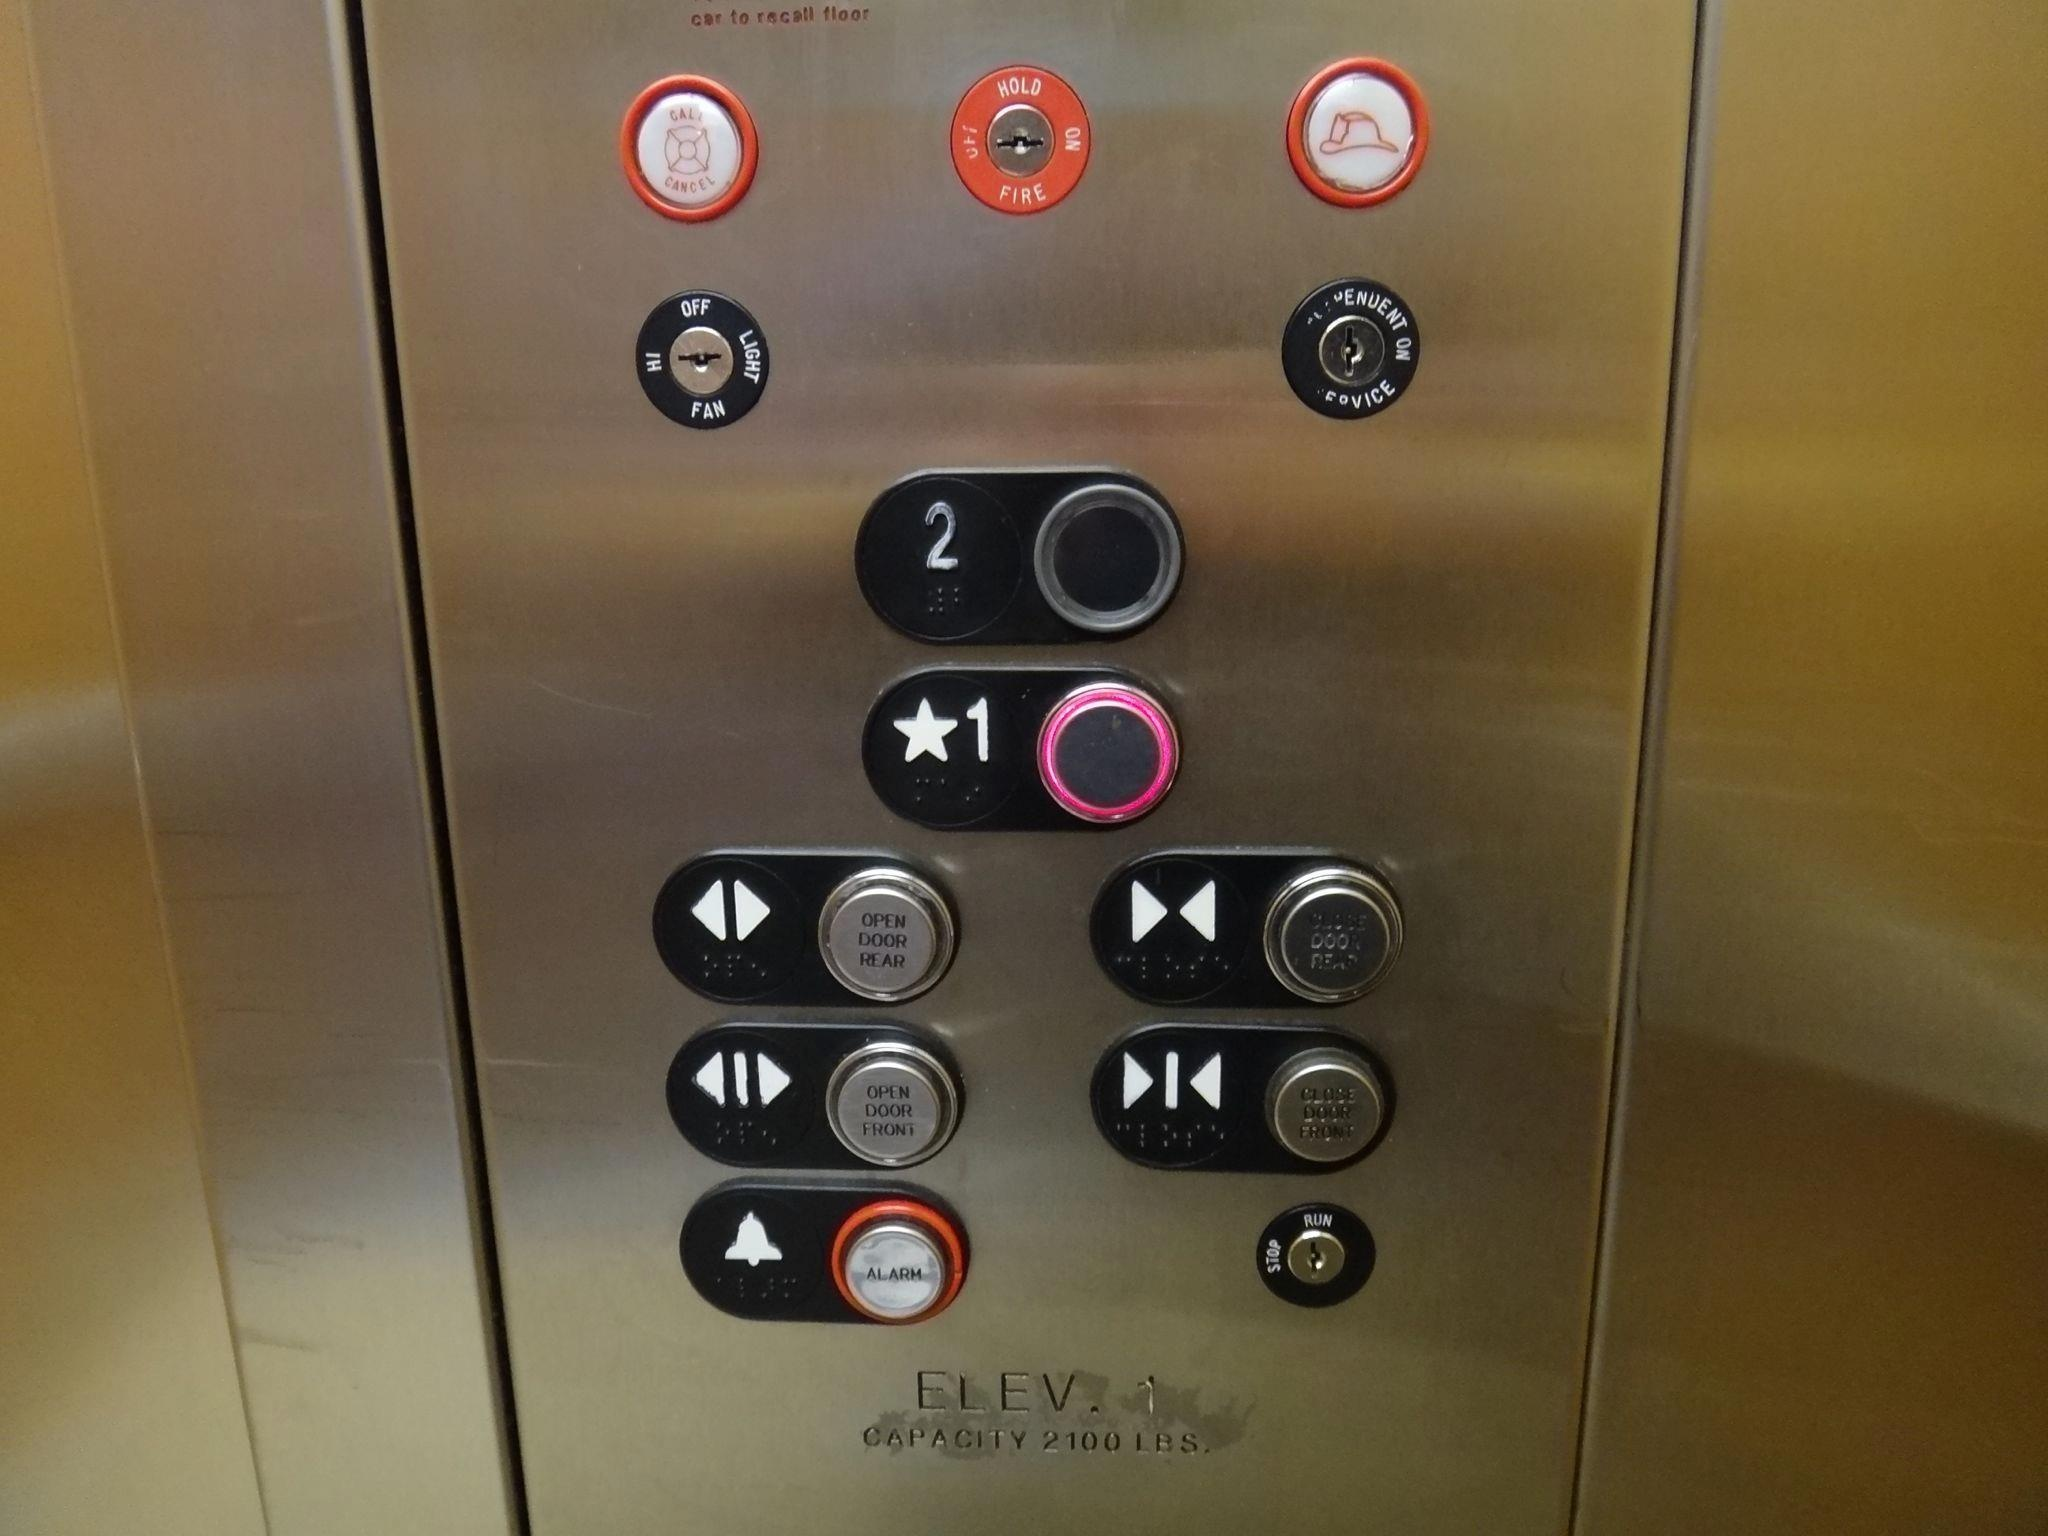2: (843, 461, 1201, 652)
alarm: (664, 1171, 980, 1329)
close: (1079, 842, 1414, 1013), (1077, 1020, 1409, 1183)
keyhole: (943, 56, 1101, 223), (1272, 269, 1430, 432), (626, 282, 777, 440), (1247, 1192, 1385, 1315)
open: (635, 842, 968, 1015), (650, 1015, 974, 1176)
s1: (845, 653, 1200, 845)
unknown: (610, 68, 768, 234), (1279, 50, 1435, 216)
